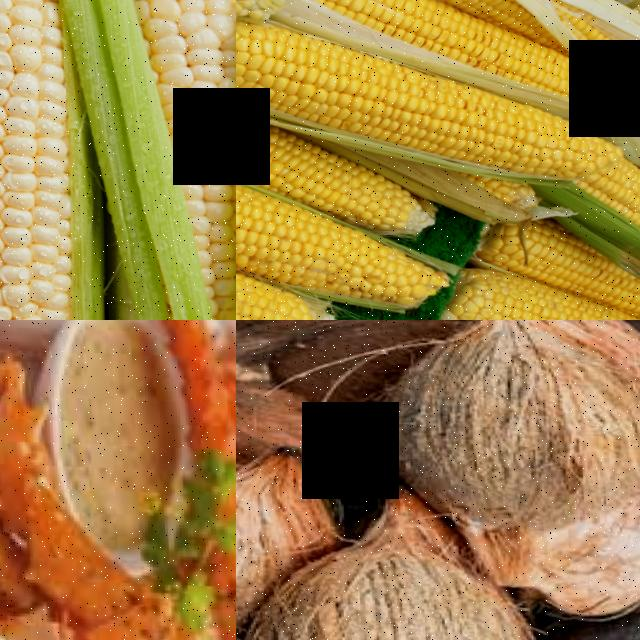coconut: (367, 320, 640, 531), (252, 532, 551, 640)
corn: (236, 0, 624, 192), (236, 130, 455, 316), (0, 0, 98, 320), (140, 0, 236, 242), (256, 123, 426, 234), (284, 0, 548, 64), (457, 249, 640, 320), (236, 263, 321, 320), (609, 142, 640, 260)
crab: (0, 557, 236, 640), (0, 320, 49, 637)
